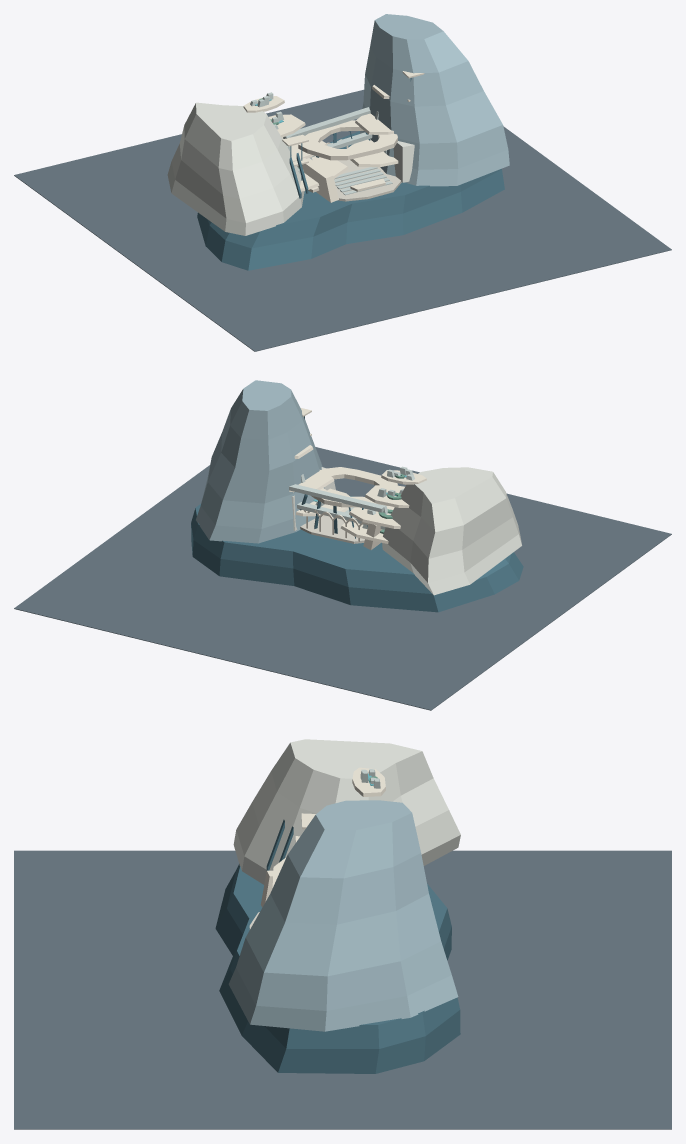
File: J7R6_TENKAKU_SECTION_NONCANONICAL.glb
The picture shows the model from 3 angles, top to bottom: view 1: azimuth 30°, elevation 25°; view 2: azimuth 150°, elevation 25°; view 3: azimuth 270°, elevation 25°; orthographic projection. The views are drawn at different scales.
Visible parts, largest first — view 1: NONCANONICAL_GROUND_FRAME, 03_EAST_ASCENDING_INHABITED_ESCARPMENT, 02_WEST_INHABITED_ESCARPMENT, 01_SINGLE_INHABITED_CONTINENT_FOUNDATION, 04_HIGH_CIVIC_OCULUS, 04_GRAND_CIVIC_FORUM_ACTUAL_PUBLIC_FLOOR, 04_FORUM_WEST_GALLERY_OCCUPIABLE, 04_FORUM_EAST_GALLERY_OCCUPIABLE, THE_CITY_INNER_PUBLIC_RIM_1590, E_OCCUPIABLE_STREET_SHELF_0, W_OCCUPIABLE_STREET_SHELF_0; view 2: NONCANONICAL_GROUND_FRAME, 03_EAST_ASCENDING_INHABITED_ESCARPMENT, 01_SINGLE_INHABITED_CONTINENT_FOUNDATION, 02_WEST_INHABITED_ESCARPMENT, 04_HIGH_CIVIC_OCULUS, 04_GRAND_CIVIC_FORUM_ACTUAL_PUBLIC_FLOOR, THE_CITY_INNER_PUBLIC_RIM_1590, W_OCCUPIABLE_STREET_SHELF_1, W_OCCUPIABLE_STREET_SHELF_2; view 3: NONCANONICAL_GROUND_FRAME, 03_EAST_ASCENDING_INHABITED_ESCARPMENT, 02_WEST_INHABITED_ESCARPMENT, 01_SINGLE_INHABITED_CONTINENT_FOUNDATION, W_OCCUPIABLE_STREET_SHELF_3.
Part boxes in pixels (x1,y1,x2,y2): NONCANONICAL_GROUND_FRAME: (14, 89, 671, 351); 03_EAST_ASCENDING_INHABITED_ESCARPMENT: (360, 14, 509, 186); 02_WEST_INHABITED_ESCARPMENT: (167, 102, 304, 235); 01_SINGLE_INHABITED_CONTINENT_FOUNDATION: (197, 131, 504, 270); 04_HIGH_CIVIC_OCULUS: (298, 120, 397, 160); 04_GRAND_CIVIC_FORUM_ACTUAL_PUBLIC_FLOOR: (334, 159, 401, 201); 04_FORUM_WEST_GALLERY_OCCUPIABLE: (297, 158, 338, 202); 04_FORUM_EAST_GALLERY_OCCUPIABLE: (393, 141, 414, 182); THE_CITY_INNER_PUBLIC_RIM_1590: (283, 107, 370, 138); E_OCCUPIABLE_STREET_SHELF_0: (347, 139, 398, 167); W_OCCUPIABLE_STREET_SHELF_0: (300, 156, 348, 191); NONCANONICAL_GROUND_FRAME: (14, 447, 671, 710); 03_EAST_ASCENDING_INHABITED_ESCARPMENT: (196, 380, 324, 543); 01_SINGLE_INHABITED_CONTINENT_FOUNDATION: (191, 495, 523, 612); 02_WEST_INHABITED_ESCARPMENT: (382, 467, 521, 595); 04_HIGH_CIVIC_OCULUS: (311, 467, 397, 507); 04_GRAND_CIVIC_FORUM_ACTUAL_PUBLIC_FLOOR: (300, 516, 364, 543); THE_CITY_INNER_PUBLIC_RIM_1590: (289, 484, 384, 512); W_OCCUPIABLE_STREET_SHELF_1: (349, 506, 400, 528); W_OCCUPIABLE_STREET_SHELF_2: (365, 485, 409, 507); NONCANONICAL_GROUND_FRAME: (14, 850, 671, 1129); 03_EAST_ASCENDING_INHABITED_ESCARPMENT: (228, 800, 458, 1031); 02_WEST_INHABITED_ESCARPMENT: (233, 739, 460, 884); 01_SINGLE_INHABITED_CONTINENT_FOUNDATION: (215, 864, 460, 1073); W_OCCUPIABLE_STREET_SHELF_3: (352, 767, 385, 796).
Bounding box in the file's own units: 10000 × 3750 × 10000.
